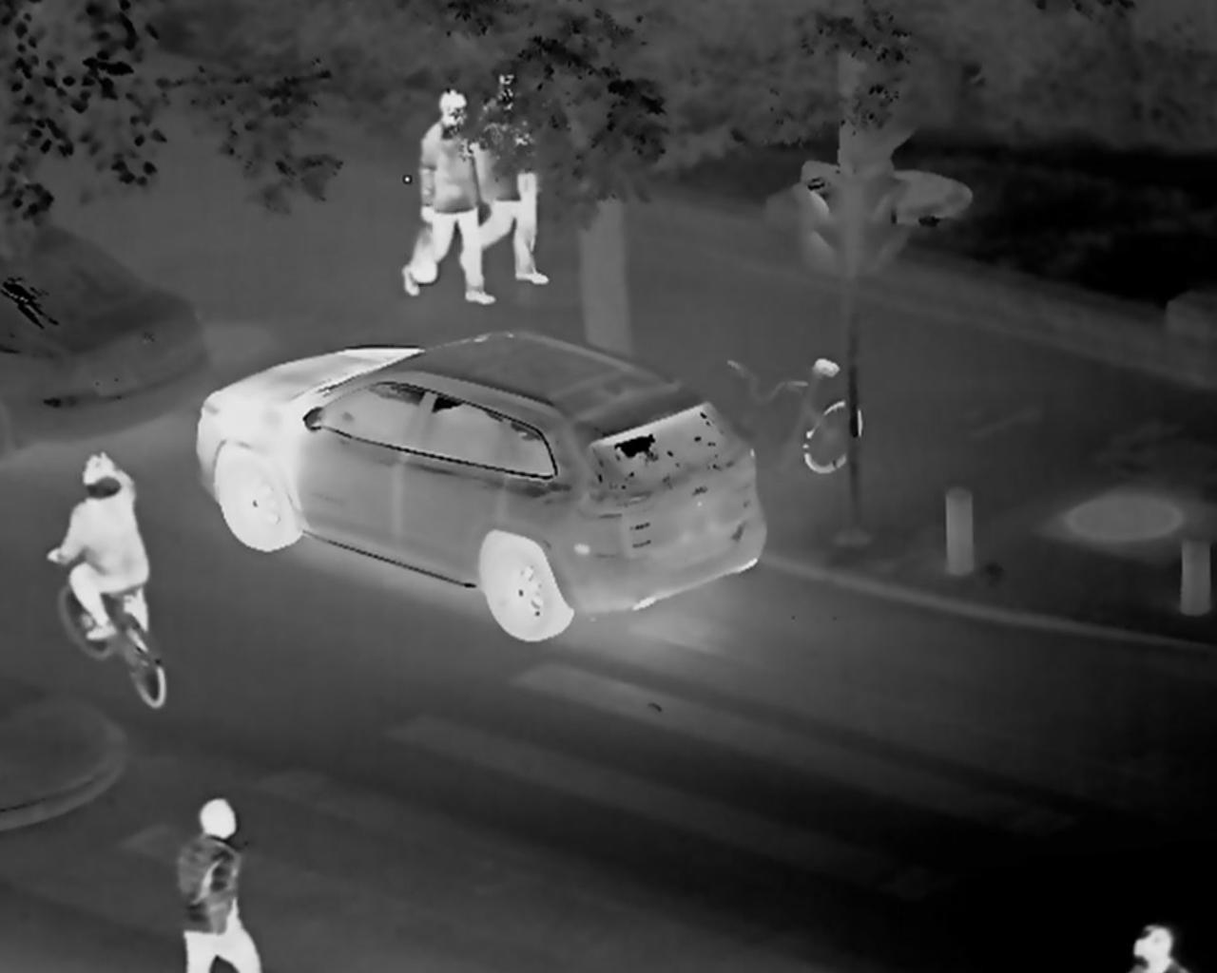person: (50, 450, 164, 674), (403, 88, 492, 306), (166, 793, 260, 973), (477, 66, 545, 288)
